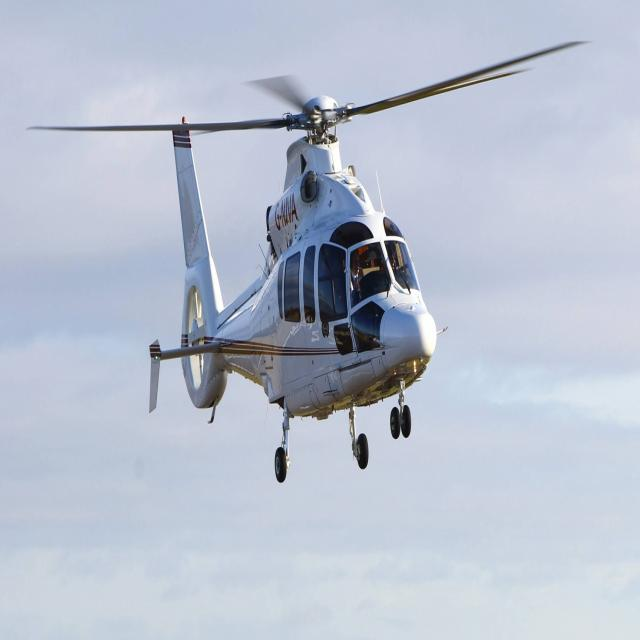helicopter: (82, 71, 466, 500)
